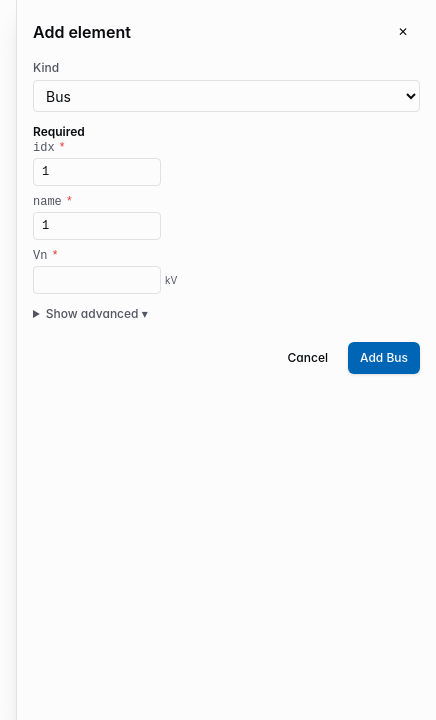
Test: <AddElementPanel /> › rejects submit when a required field is empty
The image size is (436, 720).
Expected: the form with test id "element-form-Bus" is shown, [33,124,420,374]
Click the button "Add Bus" at x=384, y=358, box [348,342,420,374]
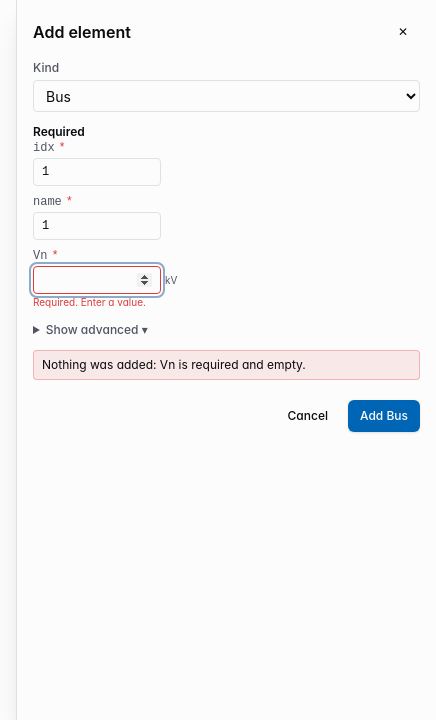
Expected: the text "Required" is shown, [33,124,85,140]
Now the message with test id "form-problems" reads "Nothing was added: Vn is required and empty.", box [42,357,306,372]
